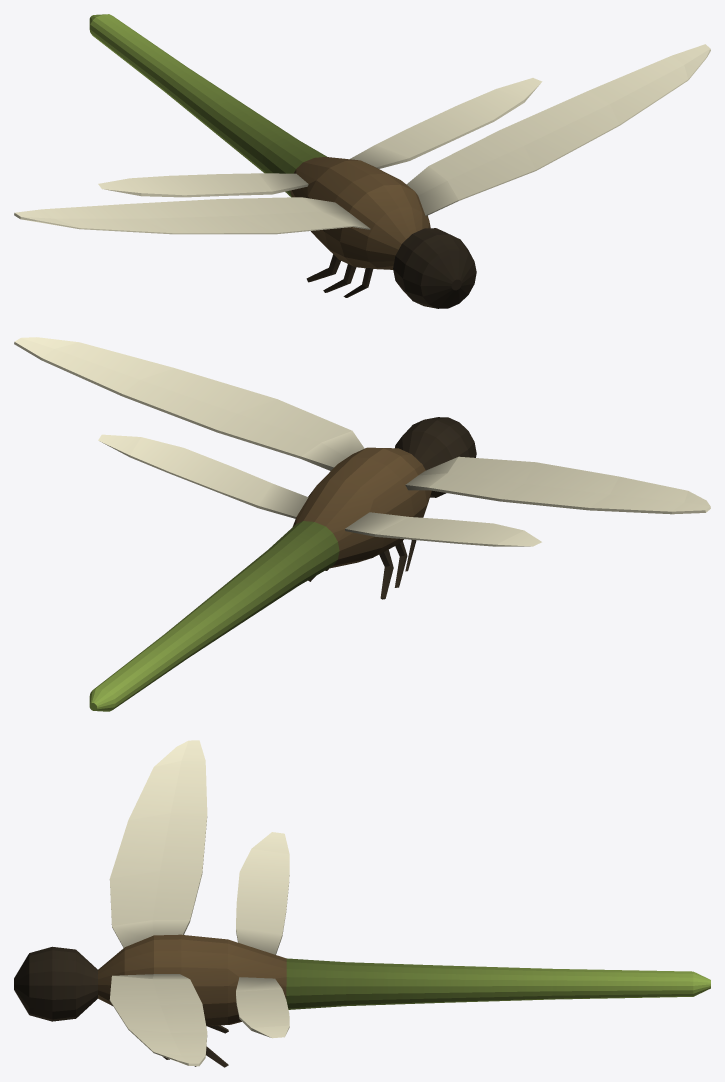
File: dragonfly.glb
3 views of the same model, one above another, from view 1: azimuth 30°, elevation 25°; view 2: azimuth 150°, elevation 25°; view 3: azimuth 270°, elevation 25° (orthographic). The views are drawn at different scales.
Visible parts, largest first — view 1: dragonfly; view 2: dragonfly; view 3: dragonfly.
Boxes of the visible parts, box(x1,y1,x2,y2) form: dragonfly: box(14, 14, 710, 308); dragonfly: box(14, 337, 710, 711); dragonfly: box(14, 740, 710, 1067).
Bounding box in the file's own units: 13.11 × 2.8 × 11.92.
Materials: 1 (1 with a texture image).
